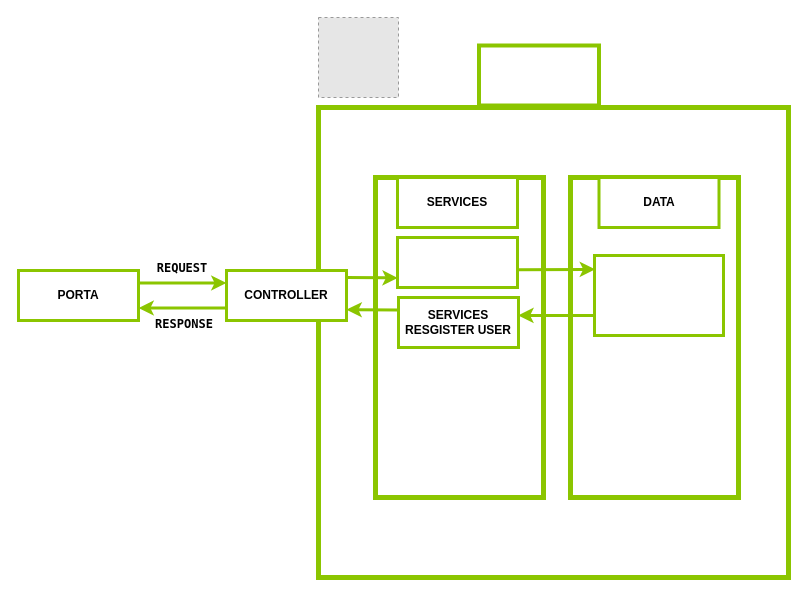
Some shapes in this 808 by 597 pixel diagram are drawn without their labels. Grey dashed boxes stand in for pictures. The shapes that lost their labels are listed below. From the top down, each one's centre as x and y in pixels, then its label:
At [538,75]: "SERVER".
At [457,262]: "SERVICES LISTER USER".
At [658,295]: "REPOSITORY".
